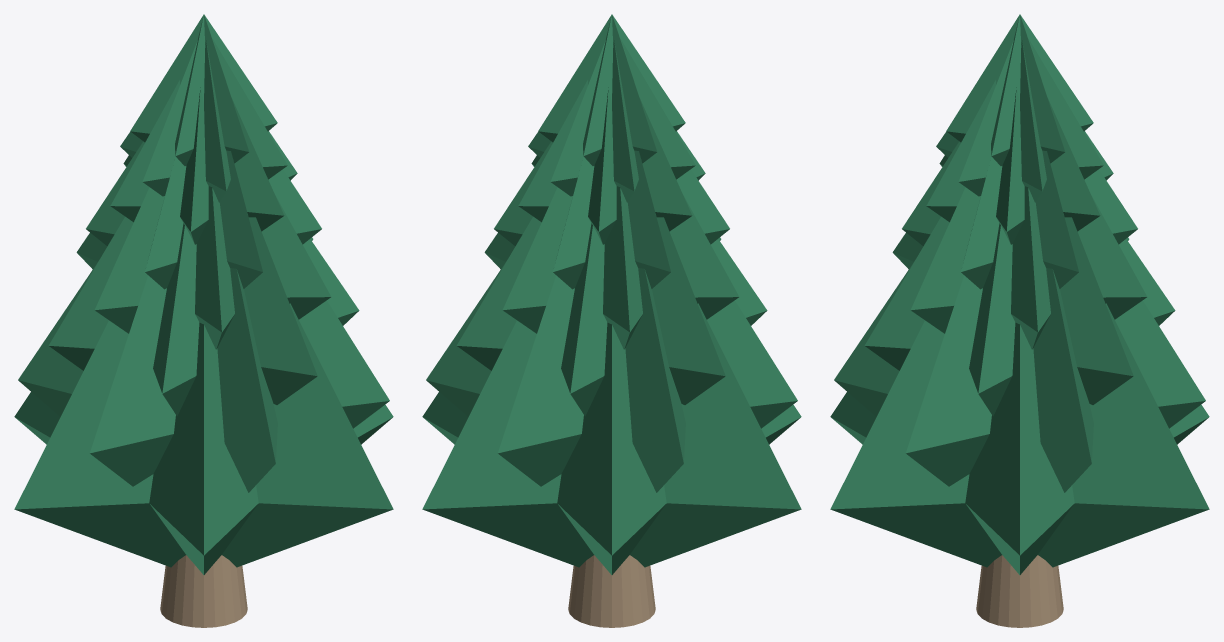
The model's file is Grand Habbi.glb.
3 renders of one model, left to right at view 1: azimuth 30°, elevation 25°; view 2: azimuth 150°, elevation 25°; view 3: azimuth 270°, elevation 25°, orthographic.
Parts seen in each view (by area): view 1: Mesh_Mesh_head_geo.001_lambert2SG.001; view 2: Mesh_Mesh_head_geo.001_lambert2SG.001; view 3: Mesh_Mesh_head_geo.001_lambert2SG.001.
Part boxes in pixels (bbox=[...]): Mesh_Mesh_head_geo.001_lambert2SG.001: bbox=[14, 14, 393, 627]; Mesh_Mesh_head_geo.001_lambert2SG.001: bbox=[422, 14, 801, 627]; Mesh_Mesh_head_geo.001_lambert2SG.001: bbox=[830, 14, 1209, 627].
Size of the model in its own units: 0.04 by 0.06 by 0.0346.
